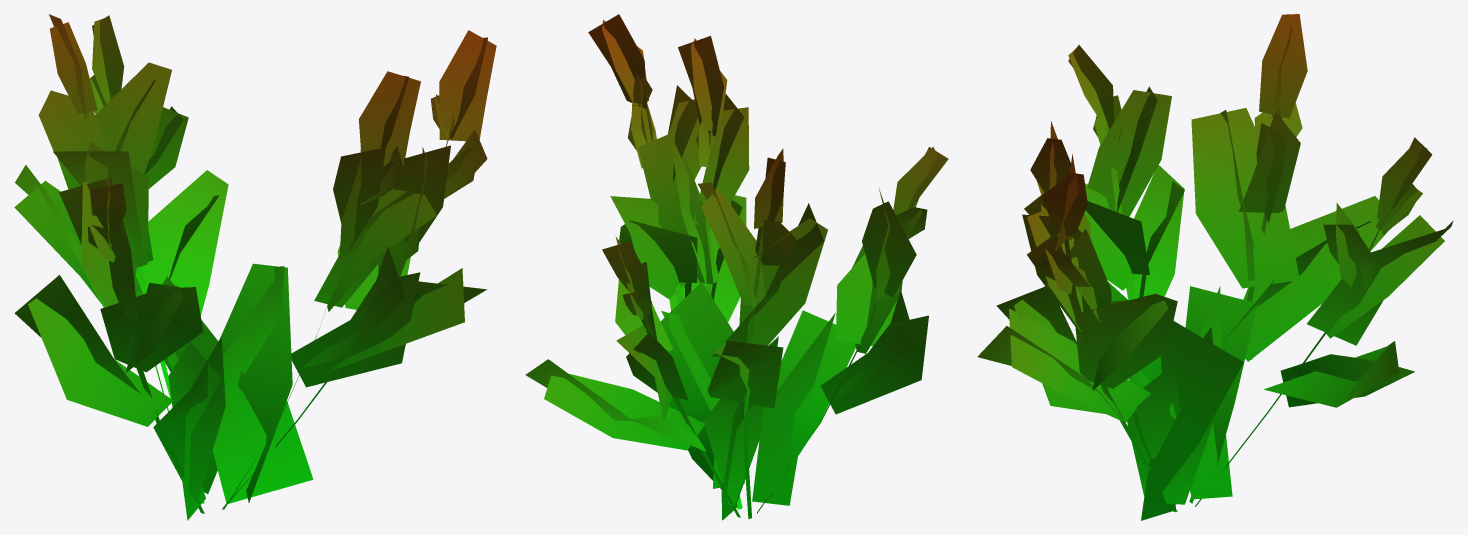
File: Chamomile_LOD3_Var10.fbx
3 renders of one model, left to right at view 1: azimuth 30°, elevation 25°; view 2: azimuth 150°, elevation 25°; view 3: azimuth 270°, elevation 25°, orthographic. The views are drawn at different scales.
Parts seen in each view (by area): view 1: _svmq_Var10_LOD3; view 2: _svmq_Var10_LOD3; view 3: _svmq_Var10_LOD3.
Part boxes in pixels (box(x1,y1,x2,y2)): _svmq_Var10_LOD3: box(14, 14, 496, 520); _svmq_Var10_LOD3: box(525, 14, 948, 520); _svmq_Var10_LOD3: box(977, 14, 1453, 520).
Size of the model in its own units: 16 by 17.02 by 16.37.
